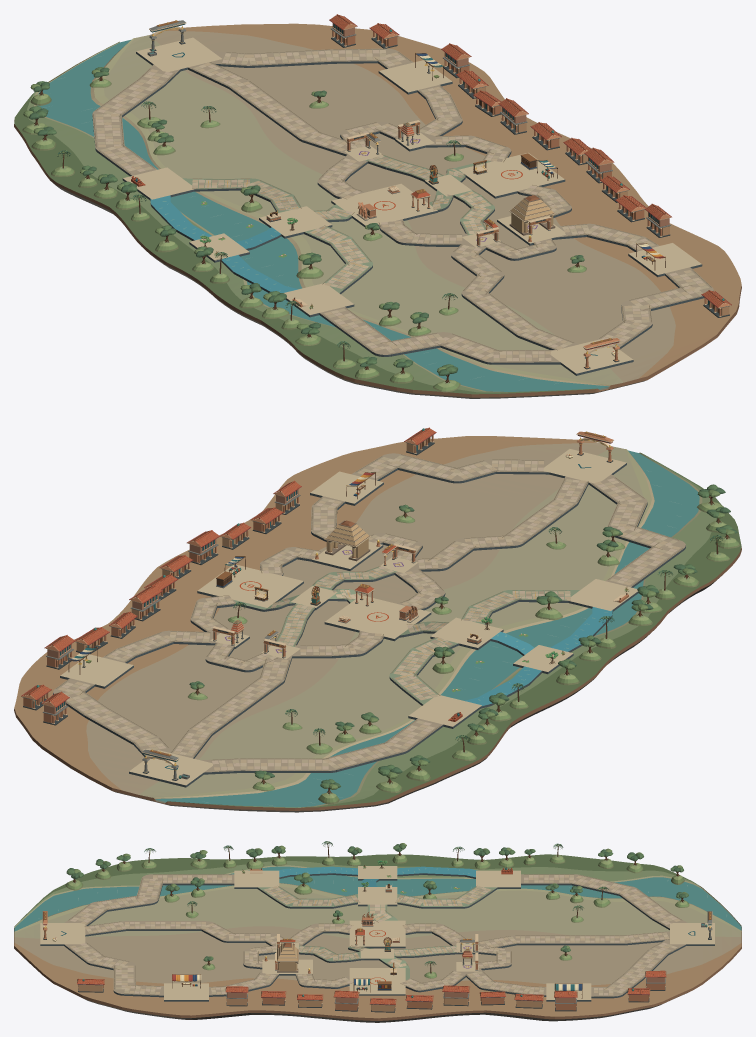
Rendered from mandala-rift.glb.
3 views of the same model, one above another, from view 1: azimuth 30°, elevation 25°; view 2: azimuth 150°, elevation 25°; view 3: azimuth 270°, elevation 25° (orthographic). The views are drawn at different scales.
Parts seen in each view (by area): view 1: Mandala Rift • continuous floor, Flood bed · river silts and cut earth · #AC9C80, Flood bed · river silts and cut earth · #A9A484, Flood bed · river silts and cut earth · #AD8C68, River · channel, foam seams and ripples · #57918C, Flood bed · river silts and cut earth · #647751, Flood bed · river silts and cut earth · #81916A, Flood bed · river silts and cut earth · #946E52, Eastern town · colonnades and roofscape · terracotta, Western bank · terraces and tree canopies · #79905E, Flood bed · river silts and cut earth · #ADAA84, Western bank · terraces and tree canopies · #91A16D (+18 smaller); view 2: Mandala Rift • continuous floor, Flood bed · river silts and cut earth · #AC9C80, Flood bed · river silts and cut earth · #A9A484, Flood bed · river silts and cut earth · #AD8C68, River · channel, foam seams and ripples · #57918C, Flood bed · river silts and cut earth · #647751, Flood bed · river silts and cut earth · #81916A, Flood bed · river silts and cut earth · #946E52, Eastern town · colonnades and roofscape · terracotta, Western bank · terraces and tree canopies · #79905E, Flood bed · river silts and cut earth · #ADAA84, Eastern town · colonnades and roofscape · sandstone (+16 smaller); view 3: Mandala Rift • continuous floor, Flood bed · river silts and cut earth · #AC9C80, Flood bed · river silts and cut earth · #A9A484, Flood bed · river silts and cut earth · #AD8C68, River · channel, foam seams and ripples · #57918C, Flood bed · river silts and cut earth · #647751, Flood bed · river silts and cut earth · #81916A, Flood bed · river silts and cut earth · #946E52, Eastern town · colonnades and roofscape · terracotta, Western bank · terraces and tree canopies · #79905E, Flood bed · river silts and cut earth · #625D55, Flood bed · river silts and cut earth · #ADAA84 (+33 smaller).
Part boxes in pixels (x1=…): Mandala Rift • continuous floor: x1=92, y1=37, x2=713, y2=375; Flood bed · river silts and cut earth · #AC9C80: x1=148, y1=31, x2=675, y2=382; Flood bed · river silts and cut earth · #A9A484: x1=104, y1=35, x2=623, y2=384; Flood bed · river silts and cut earth · #AD8C68: x1=165, y1=23, x2=741, y2=378; River · channel, foam seams and ripples · #57918C: x1=37, y1=39, x2=608, y2=391; Flood bed · river silts and cut earth · #647751: x1=14, y1=52, x2=595, y2=394; Flood bed · river silts and cut earth · #81916A: x1=27, y1=41, x2=556, y2=392; Flood bed · river silts and cut earth · #946E52: x1=14, y1=53, x2=741, y2=397; Eastern town · colonnades and roofscape · terracotta: x1=330, y1=14, x2=729, y2=307; Western bank · terraces and tree canopies · #79905E: x1=23, y1=80, x2=459, y2=390; Flood bed · river silts and cut earth · #ADAA84: x1=94, y1=38, x2=611, y2=385; Western bank · terraces and tree canopies · #91A16D: x1=26, y1=78, x2=456, y2=387; Mandala Rift • continuous floor: x1=53, y1=449, x2=685, y2=787; Flood bed · river silts and cut earth · #AC9C80: x1=86, y1=442, x2=612, y2=794; Flood bed · river silts and cut earth · #A9A484: x1=139, y1=446, x2=643, y2=797; Flood bed · river silts and cut earth · #AD8C68: x1=14, y1=436, x2=597, y2=790; River · channel, foam seams and ripples · #57918C: x1=155, y1=450, x2=699, y2=807; Flood bed · river silts and cut earth · #647751: x1=168, y1=454, x2=741, y2=807; Flood bed · river silts and cut earth · #81916A: x1=196, y1=452, x2=716, y2=807; Flood bed · river silts and cut earth · #946E52: x1=14, y1=547, x2=741, y2=810; Eastern town · colonnades and roofscape · terracotta: x1=22, y1=427, x2=435, y2=706; Western bank · terraces and tree canopies · #79905E: x1=253, y1=503, x2=739, y2=802; Flood bed · river silts and cut earth · #ADAA84: x1=153, y1=449, x2=651, y2=797; Eastern town · colonnades and roofscape · sandstone: x1=22, y1=435, x2=433, y2=723; Mandala Rift • continuous floor: x1=40, y1=866, x2=714, y2=1001; Flood bed · river silts and cut earth · #AC9C80: x1=14, y1=926, x2=741, y2=986; Flood bed · river silts and cut earth · #A9A484: x1=14, y1=886, x2=741, y2=938; Flood bed · river silts and cut earth · #AD8C68: x1=14, y1=942, x2=741, y2=1018; River · channel, foam seams and ripples · #57918C: x1=14, y1=866, x2=741, y2=931; Flood bed · river silts and cut earth · #647751: x1=14, y1=854, x2=731, y2=926; Flood bed · river silts and cut earth · #81916A: x1=14, y1=861, x2=741, y2=926; Flood bed · river silts and cut earth · #946E52: x1=14, y1=886, x2=741, y2=1020; Eastern town · colonnades and roofscape · terracotta: x1=77, y1=970, x2=666, y2=1004; Western bank · terraces and tree canopies · #79905E: x1=66, y1=856, x2=688, y2=906; Flood bed · river silts and cut earth · #625D55: x1=84, y1=992, x2=687, y2=1022; Flood bed · river silts and cut earth · #ADAA84: x1=14, y1=883, x2=741, y2=932.
Size of the model in its own units: 138 by 12.28 by 259.
84 materials, 2 textured.
